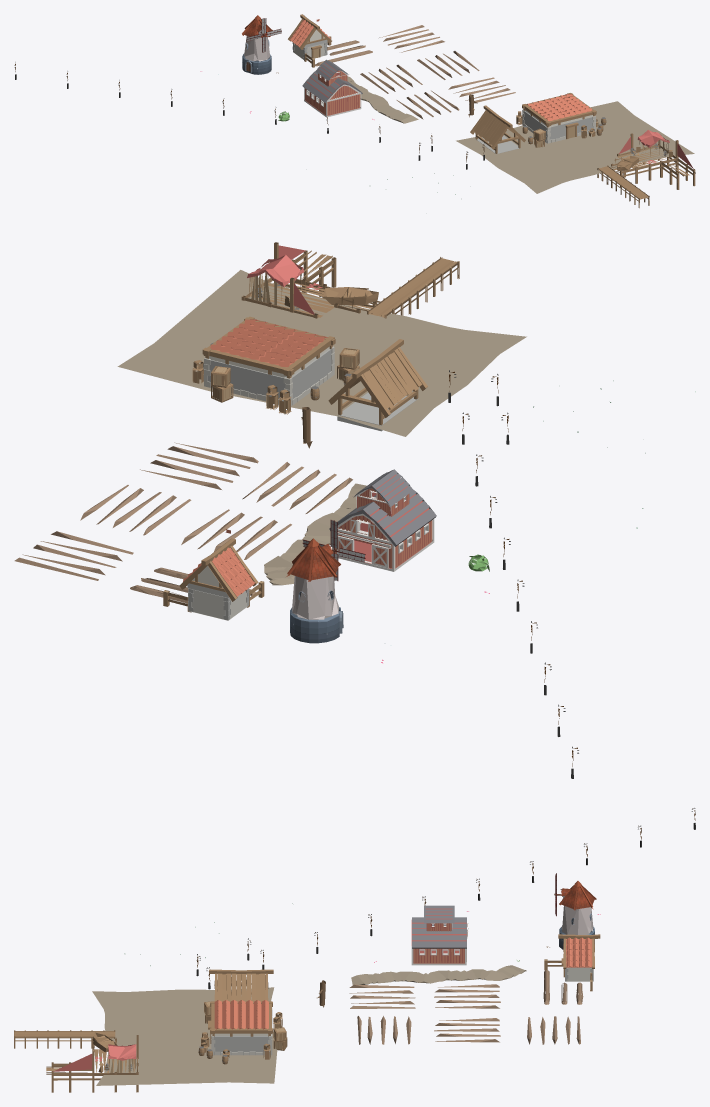
File: chunk_2_0_lod1.glb
3 views of the same model, one above another, from view 1: azimuth 30°, elevation 25°; view 2: azimuth 150°, elevation 25°; view 3: azimuth 270°, elevation 25° (orthographic). The views are drawn at different scales.
Visible parts, largest first — view 1: Batched_Chunk_2_0.001; view 2: Batched_Chunk_2_0.001; view 3: Batched_Chunk_2_0.001.
Boxes of the visible parts, <box> form: Batched_Chunk_2_0.001: <box>14,14,695,208</box>; Batched_Chunk_2_0.001: <box>14,242,695,778</box>; Batched_Chunk_2_0.001: <box>14,808,695,1092</box>.
Bounding box in the file's own units: 102 × 15.75 × 114.
Materials: 28 (4 with a texture image).
